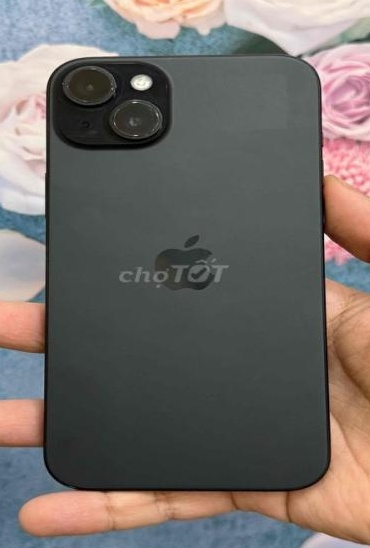scratch: (59, 65, 163, 148)
